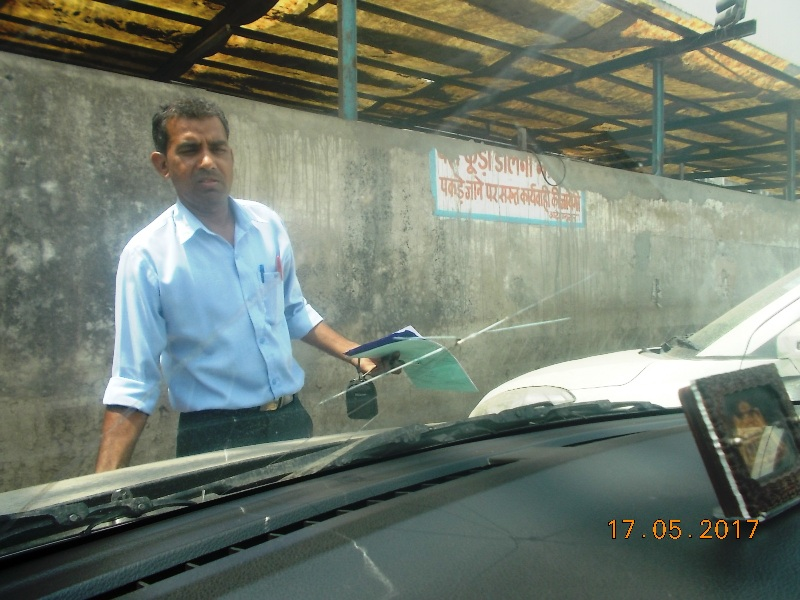Shatter: (321, 374, 363, 407), (379, 340, 426, 369), (452, 323, 494, 350), (508, 313, 543, 331), (552, 302, 573, 328)
